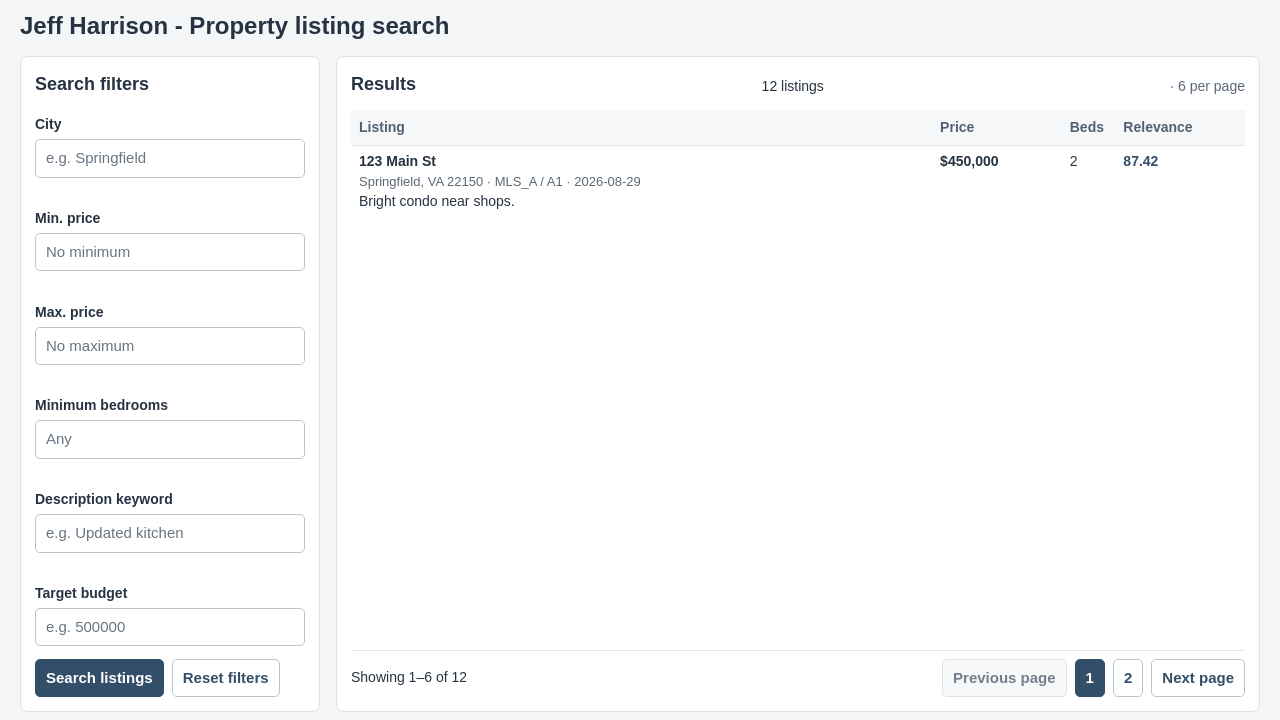
Test: listing search › prevents invalid searches, focuses the invalid field, and shows inline errors
Check: the table named "Listing results" is shown, box [351,110,1245,650]
Type "500000" into the field labelled "Min. price" at (170, 252), box [35,233,305,271]
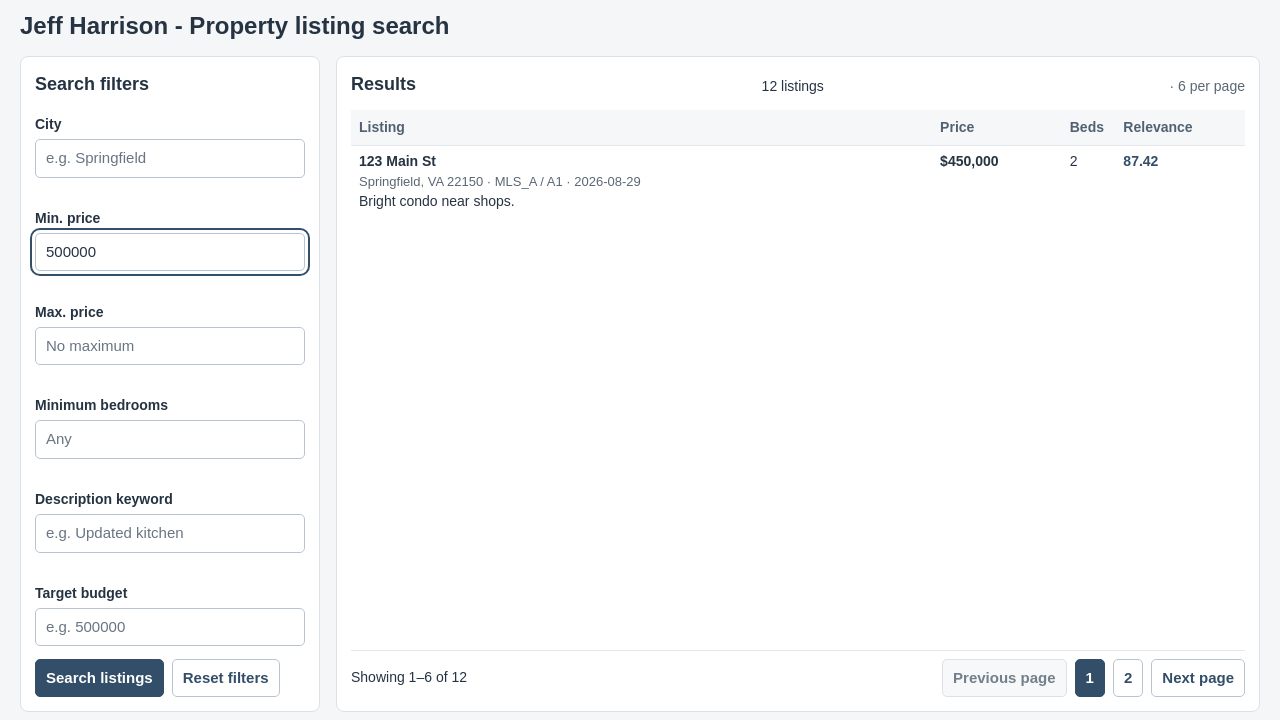
Type "400000" into the field labelled "Max. price" at (170, 346), box [35,327,305,365]
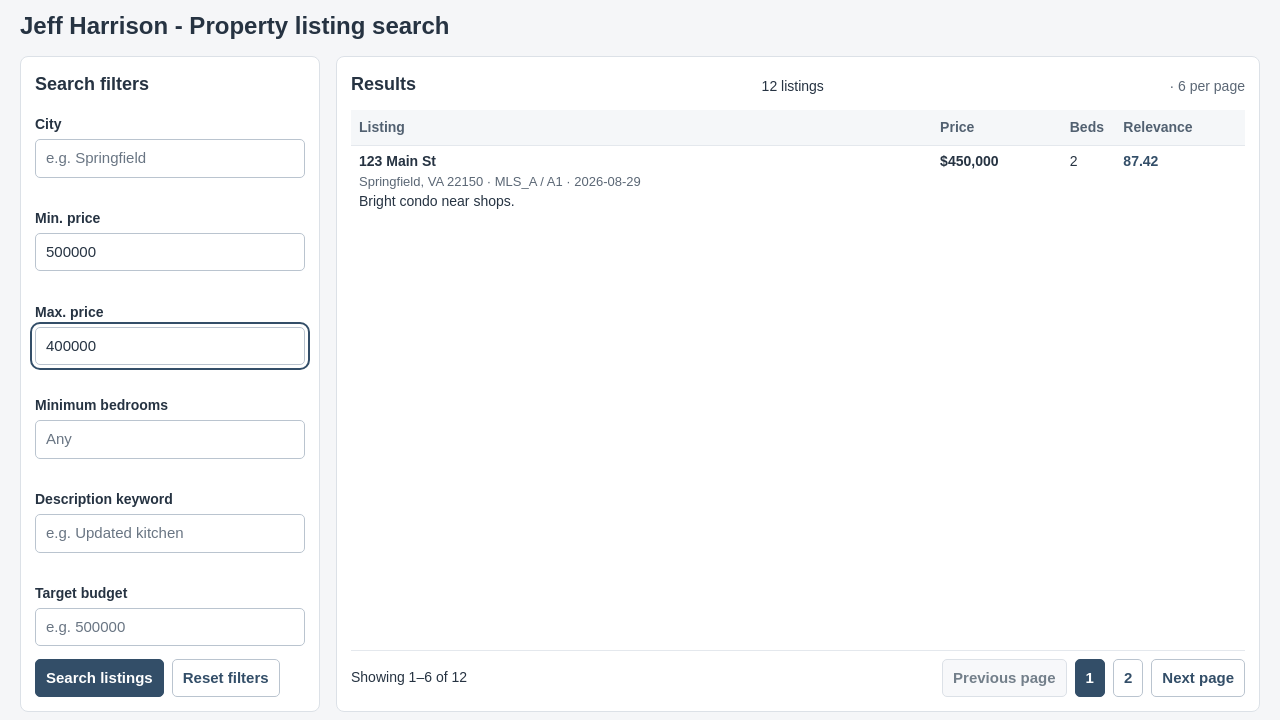
Click the button "Search listings" at (99, 678), box [35,658,164,697]
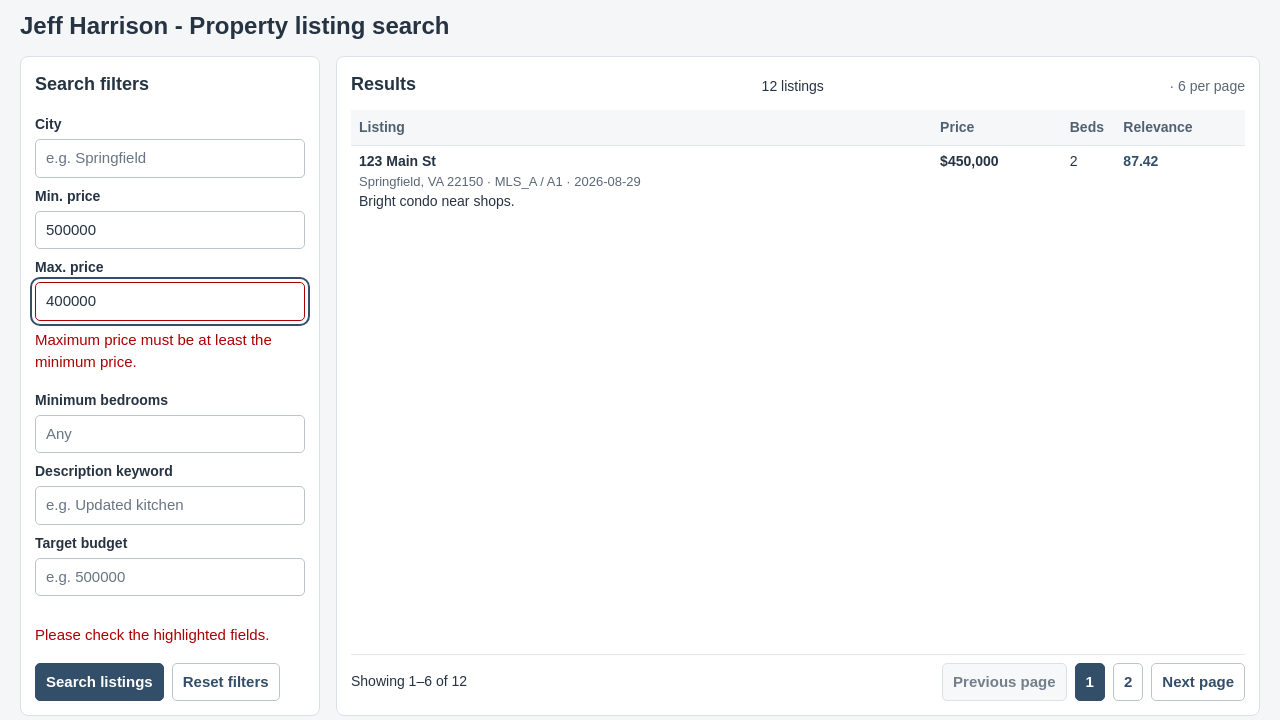
Check: the message "Please check the highlighted fields." is shown, box [35,624,305,646]
